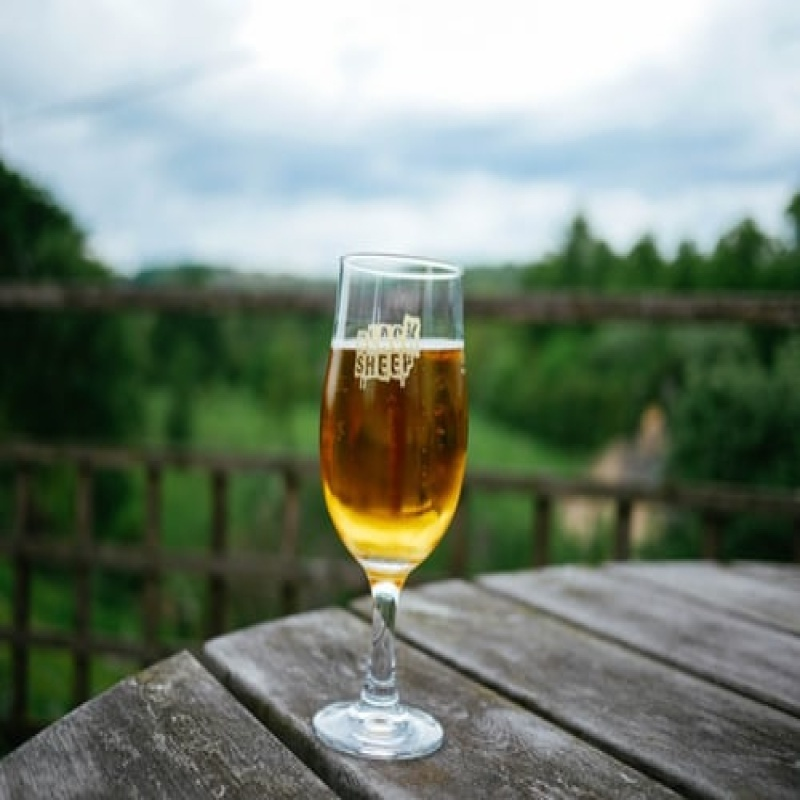whiskey: (320, 253, 473, 575)
